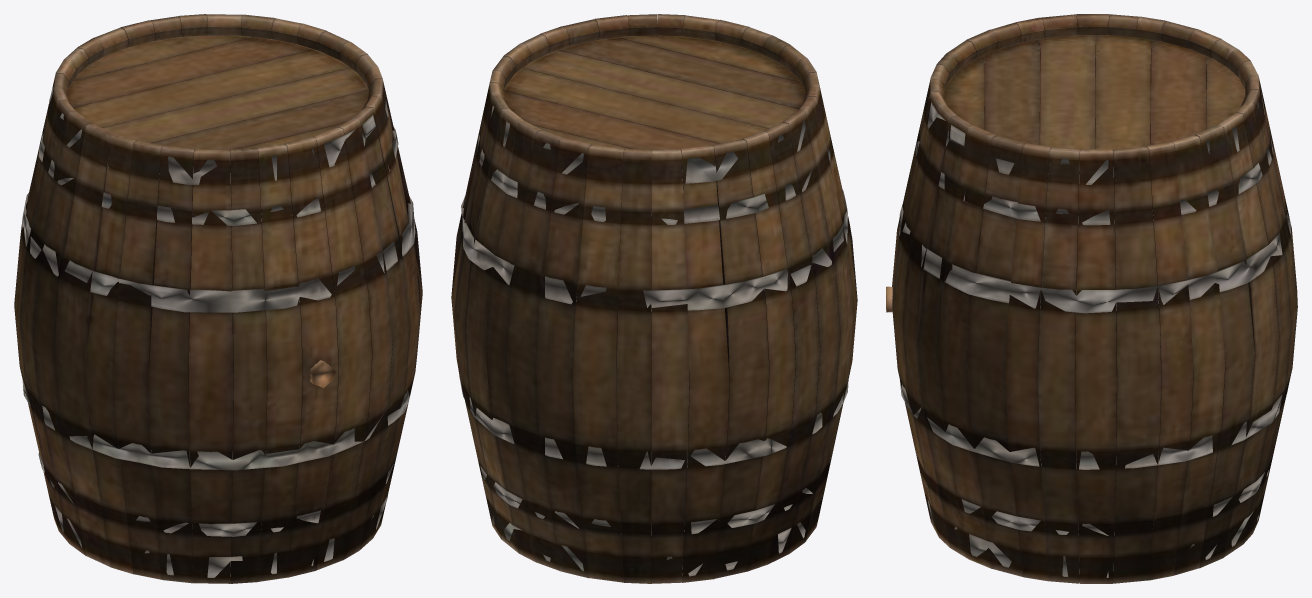
File: wine_barrel_01.glb
The picture shows the model from 3 angles, left to right: view 1: azimuth 30°, elevation 25°; view 2: azimuth 150°, elevation 25°; view 3: azimuth 270°, elevation 25°; orthographic projection.
Visible parts, largest first — view 1: wine_barrel_01_Lid; view 2: wine_barrel_01_Lid; view 3: wine_barrel_01_Lid.
Part boxes in pixels (x1,y1,x2,y2): wine_barrel_01_Lid: [14, 14, 422, 583]; wine_barrel_01_Lid: [451, 14, 857, 583]; wine_barrel_01_Lid: [886, 14, 1297, 583].
Size of the model in its own units: 0.7419 by 0.8695 by 0.7521.
1 material, 1 textured.
